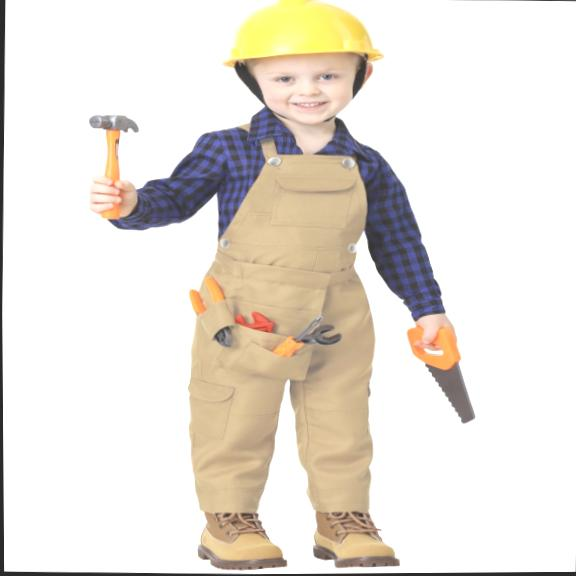no_safety_vest: (154, 100, 399, 462)
